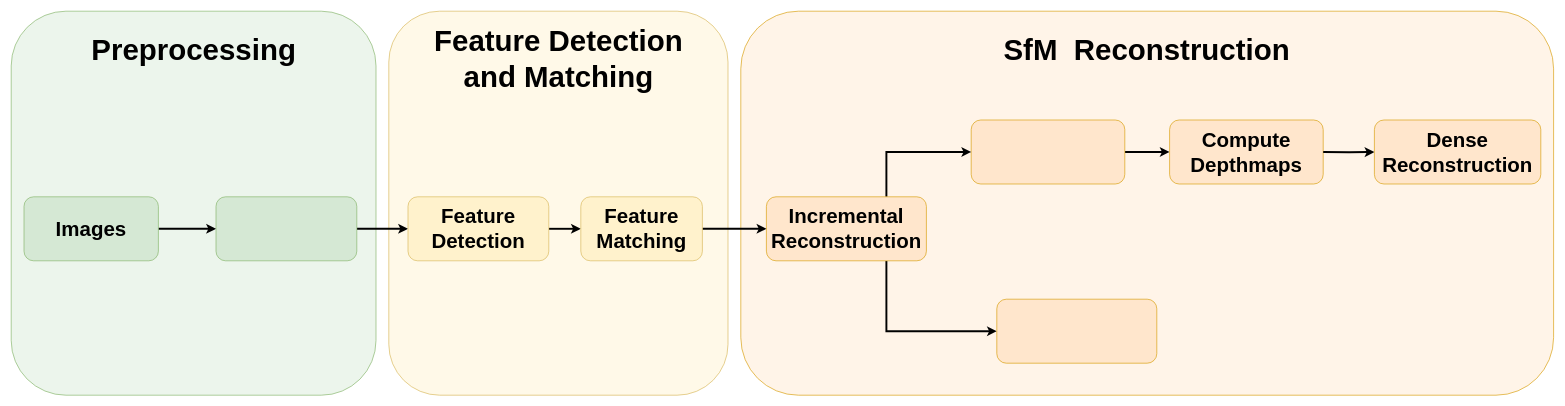
This 1565x406 diagram has some shape labels left out. Each missing label, with the centre of its shape:
Extract EXIF Metadata: pixel 286 228
Sparse Reconstruction: pixel 1076 331
Undistort: pixel 1048 151
